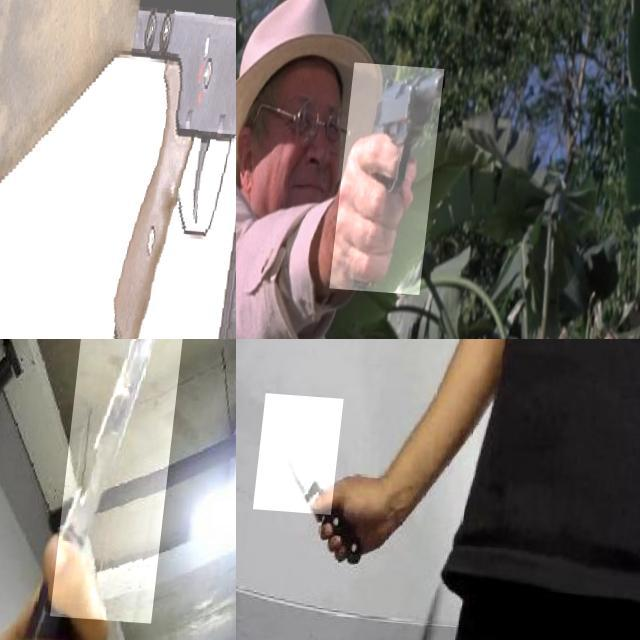-: (61, 339, 204, 615), (264, 391, 352, 511)
gun-knife-thesis - v11 Yolov5 augmented: (0, 0, 236, 339), (338, 58, 448, 288)
